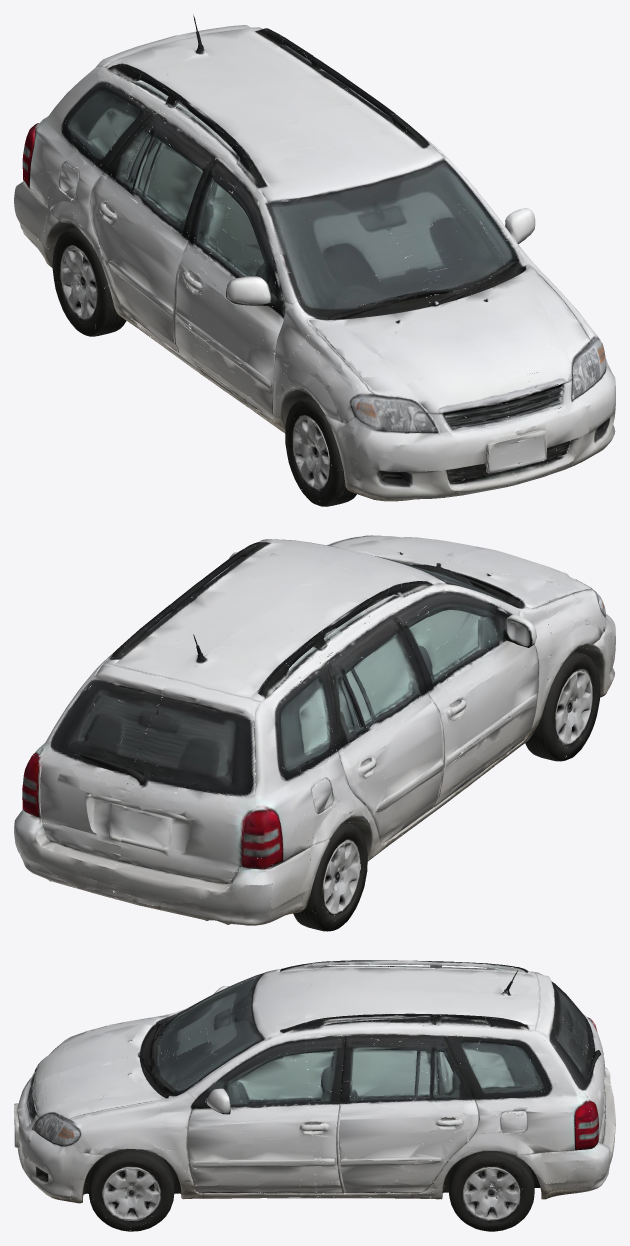
File: car_prop.glb
3 views of the same model, one above another, from view 1: azimuth 30°, elevation 25°; view 2: azimuth 150°, elevation 25°; view 3: azimuth 270°, elevation 25° (orthographic). The views are drawn at different scales.
Parts seen in each view (by area): view 1: prop_car; view 2: prop_car; view 3: prop_car.
Boxes of the visible parts, x1=… form: prop_car: x1=14, y1=14, x2=615, y2=506; prop_car: x1=14, y1=535, x2=615, y2=931; prop_car: x1=14, y1=960, x2=615, y2=1231.
Size of the model in its own units: 0.4458 by 0.3835 by 0.9818.
Materials: 1 (1 with a texture image).
